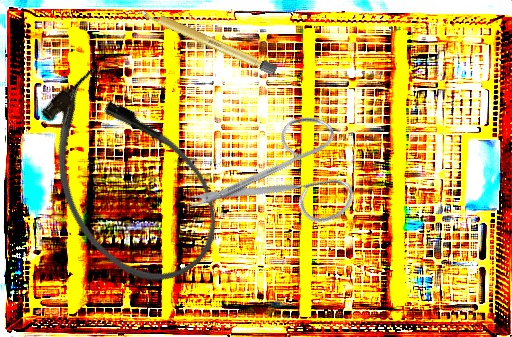Cannula: (9, 49, 244, 309)
Iris Scissors: (178, 80, 383, 288)
Scalpel Handle: (136, 4, 279, 77)
